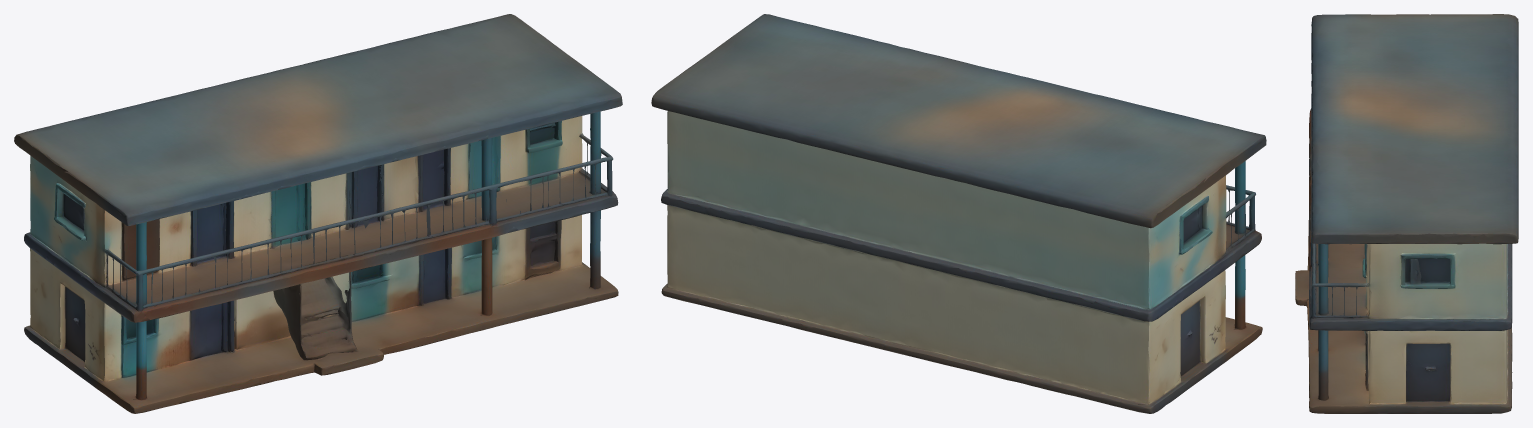
File: motel.glb
3 renders of one model, left to right at view 1: azimuth 30°, elevation 25°; view 2: azimuth 150°, elevation 25°; view 3: azimuth 270°, elevation 25°, orthographic. The views are drawn at different scales.
Parts seen in each view (by area): view 1: Mesh; view 2: Mesh; view 3: Mesh.
Boxes of the visible parts, box(x1,y1,x2,y2) form: Mesh: box(14, 14, 622, 413); Mesh: box(651, 14, 1266, 413); Mesh: box(1295, 14, 1518, 413).
Size of the model in its own units: 1.89 by 0.7367 by 0.8132.
1 material, 1 textured.
